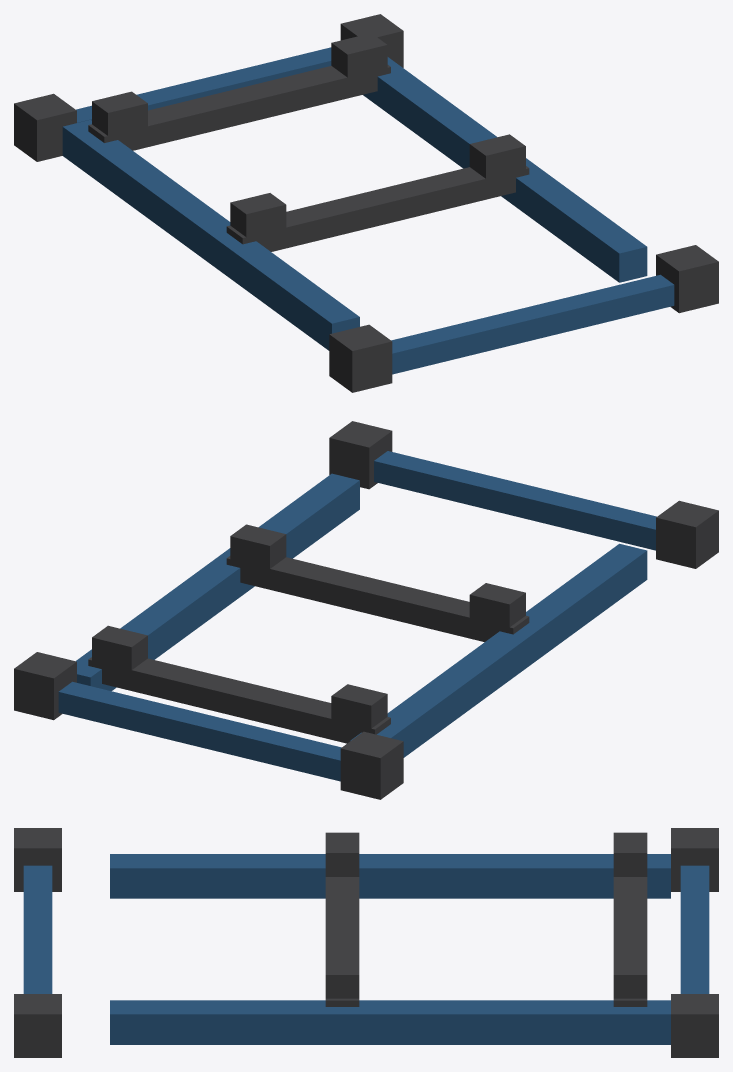
The model's file is pellet_frame.obj.
3 views of the same model, one above another, from view 1: azimuth 30°, elevation 25°; view 2: azimuth 150°, elevation 25°; view 3: azimuth 270°, elevation 25° (orthographic). The views are drawn at different scales.
Parts seen in each view (by area): view 1: pellet_frame; view 2: pellet_frame; view 3: pellet_frame.
Part boxes in pixels (x1,y1,x2,y2): pellet_frame: (14, 14, 718, 392); pellet_frame: (14, 421, 718, 799); pellet_frame: (14, 828, 718, 1057).
Size of the model in its own units: 0.918 by 0.14 by 1.47.
